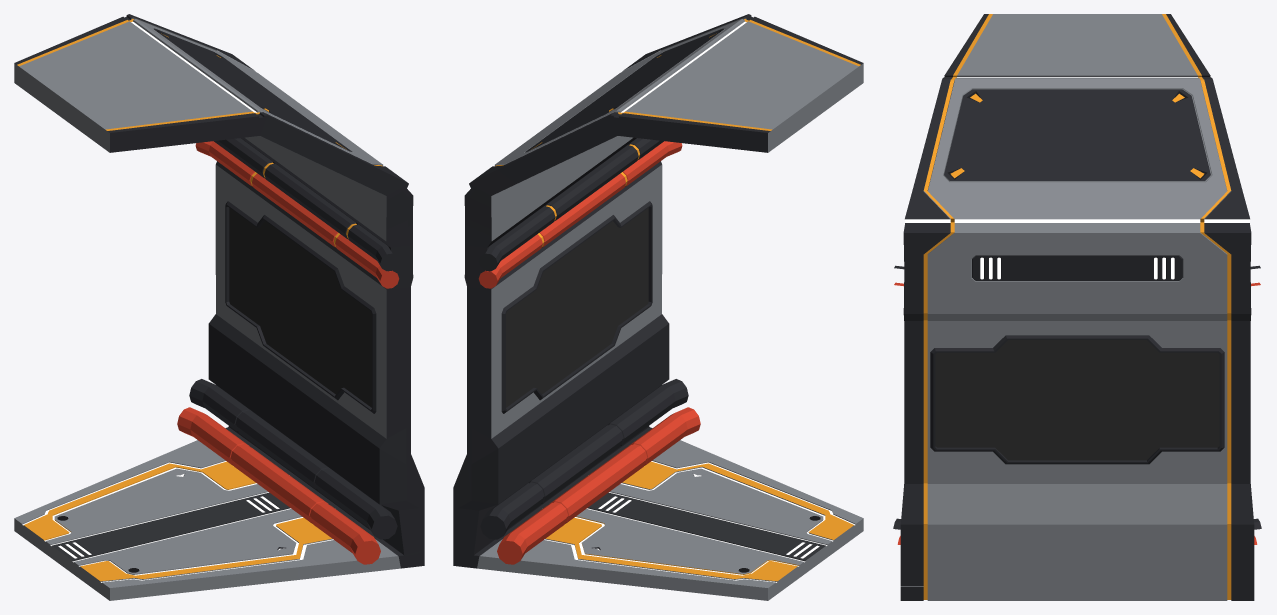
The model's file is SM_Window_For_Type_01.glb.
3 renders of one model, left to right at view 1: azimuth 30°, elevation 25°; view 2: azimuth 150°, elevation 25°; view 3: azimuth 270°, elevation 25°, orthographic. The views are drawn at different scales.
Visible parts, largest first — view 1: SM_Window_For_Type_01; view 2: SM_Window_For_Type_01; view 3: SM_Window_For_Type_01.
Boxes of the visible parts, x1,y1,x2,y2 form: SM_Window_For_Type_01: [14, 14, 424, 600]; SM_Window_For_Type_01: [453, 14, 863, 600]; SM_Window_For_Type_01: [893, 14, 1261, 600].
Size of the model in its own units: 3.34 by 5.49 by 4.03.
Materials: 3 (1 with a texture image).
